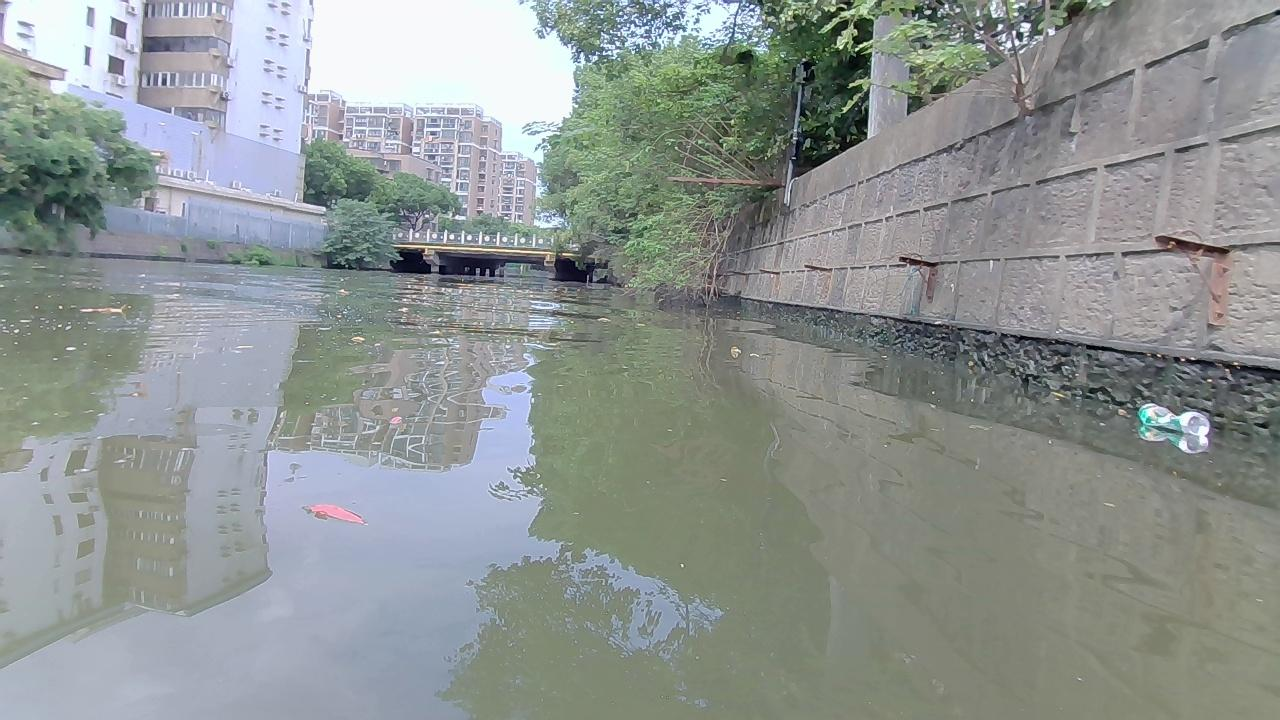bottle: (1136, 401, 1210, 435)
